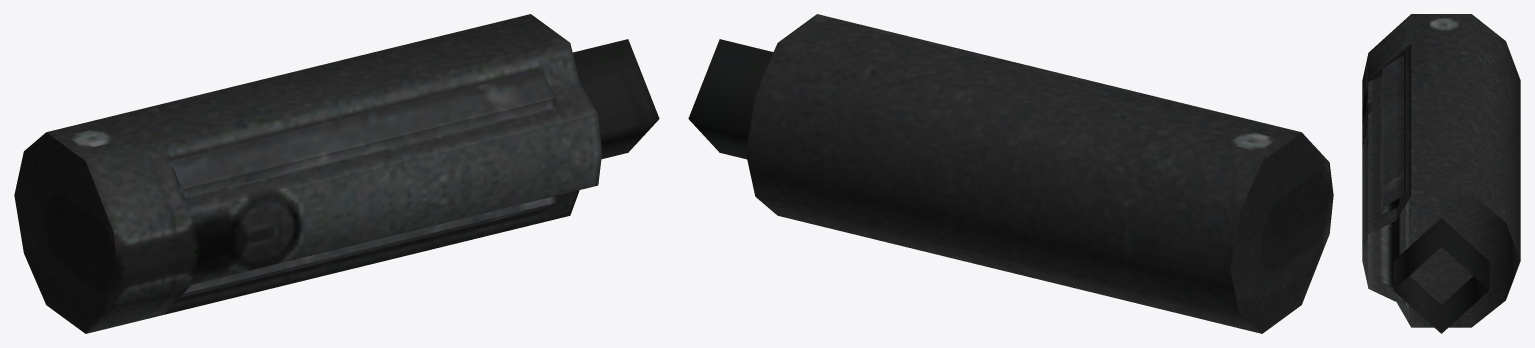
The model's file is t6_attach_sniper_svu_silencer_view_LOD0.obj.
3 views of the same model, side by side, from view 1: azimuth 30°, elevation 25°; view 2: azimuth 150°, elevation 25°; view 3: azimuth 270°, elevation 25° (orthographic). The views are drawn at different scales.
Parts seen in each view (by area): view 1: mtl_t6_wpn_sniper_svu, mtl_t6_wpn_sniper_svu_camo3; view 2: mtl_t6_wpn_sniper_svu, mtl_t6_wpn_sniper_svu_camo3; view 3: mtl_t6_wpn_sniper_svu, mtl_t6_wpn_sniper_svu_camo3.
Part boxes in pixels (bbox=[...]): mtl_t6_wpn_sniper_svu: bbox=[14, 14, 602, 333]; mtl_t6_wpn_sniper_svu_camo3: bbox=[171, 39, 659, 297]; mtl_t6_wpn_sniper_svu: bbox=[745, 14, 1333, 333]; mtl_t6_wpn_sniper_svu_camo3: bbox=[688, 39, 773, 159]; mtl_t6_wpn_sniper_svu: bbox=[1362, 14, 1520, 327]; mtl_t6_wpn_sniper_svu_camo3: bbox=[1382, 55, 1489, 333].
Size of the model in its own units: 16.67 by 4.9 by 5.3.
